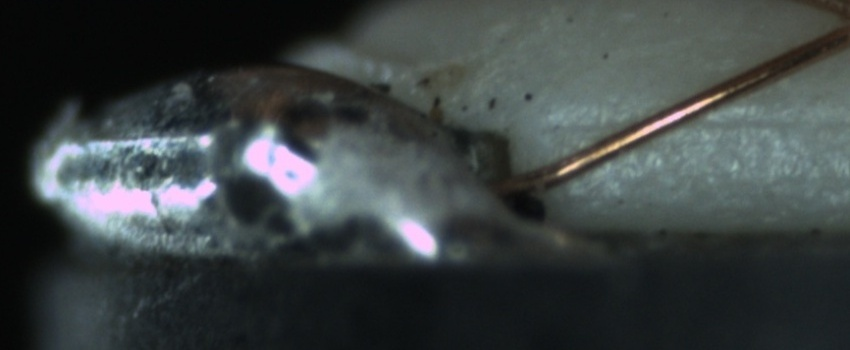CL: (829, 1, 850, 46)
DL: (561, 93, 850, 150)
